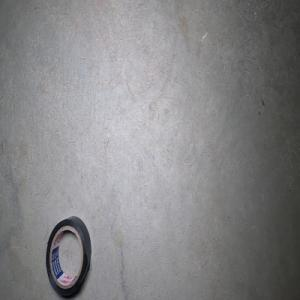Tape: (45, 215, 91, 298)
